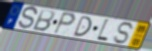B: (31, 9, 56, 33)
D: (72, 15, 93, 38)
L: (95, 18, 110, 43)
P: (52, 11, 77, 36)
S: (112, 22, 136, 46), (16, 6, 38, 31)
